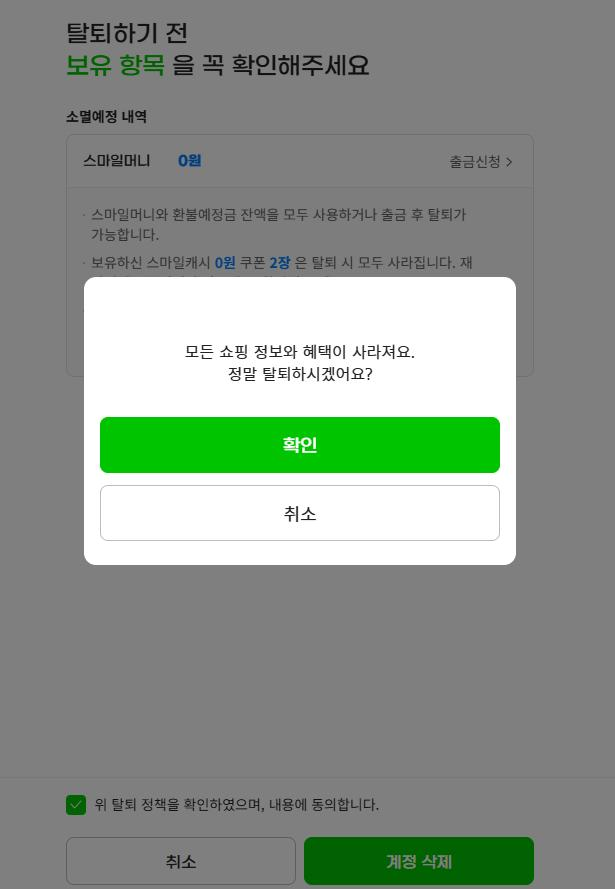button: (100, 480, 500, 539), (99, 414, 502, 469), (306, 836, 535, 889), (69, 837, 296, 889), (433, 143, 529, 180)
checkbox: (60, 782, 394, 825)
popup: (81, 274, 515, 570)
